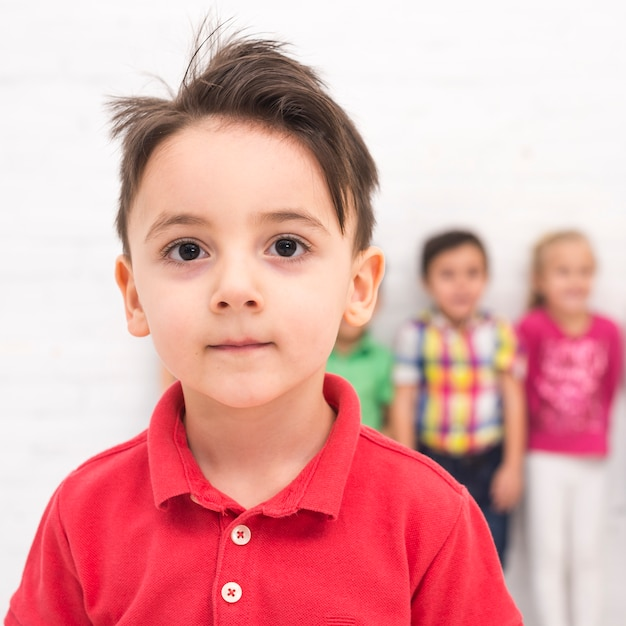teen: (101, 80, 374, 418)
